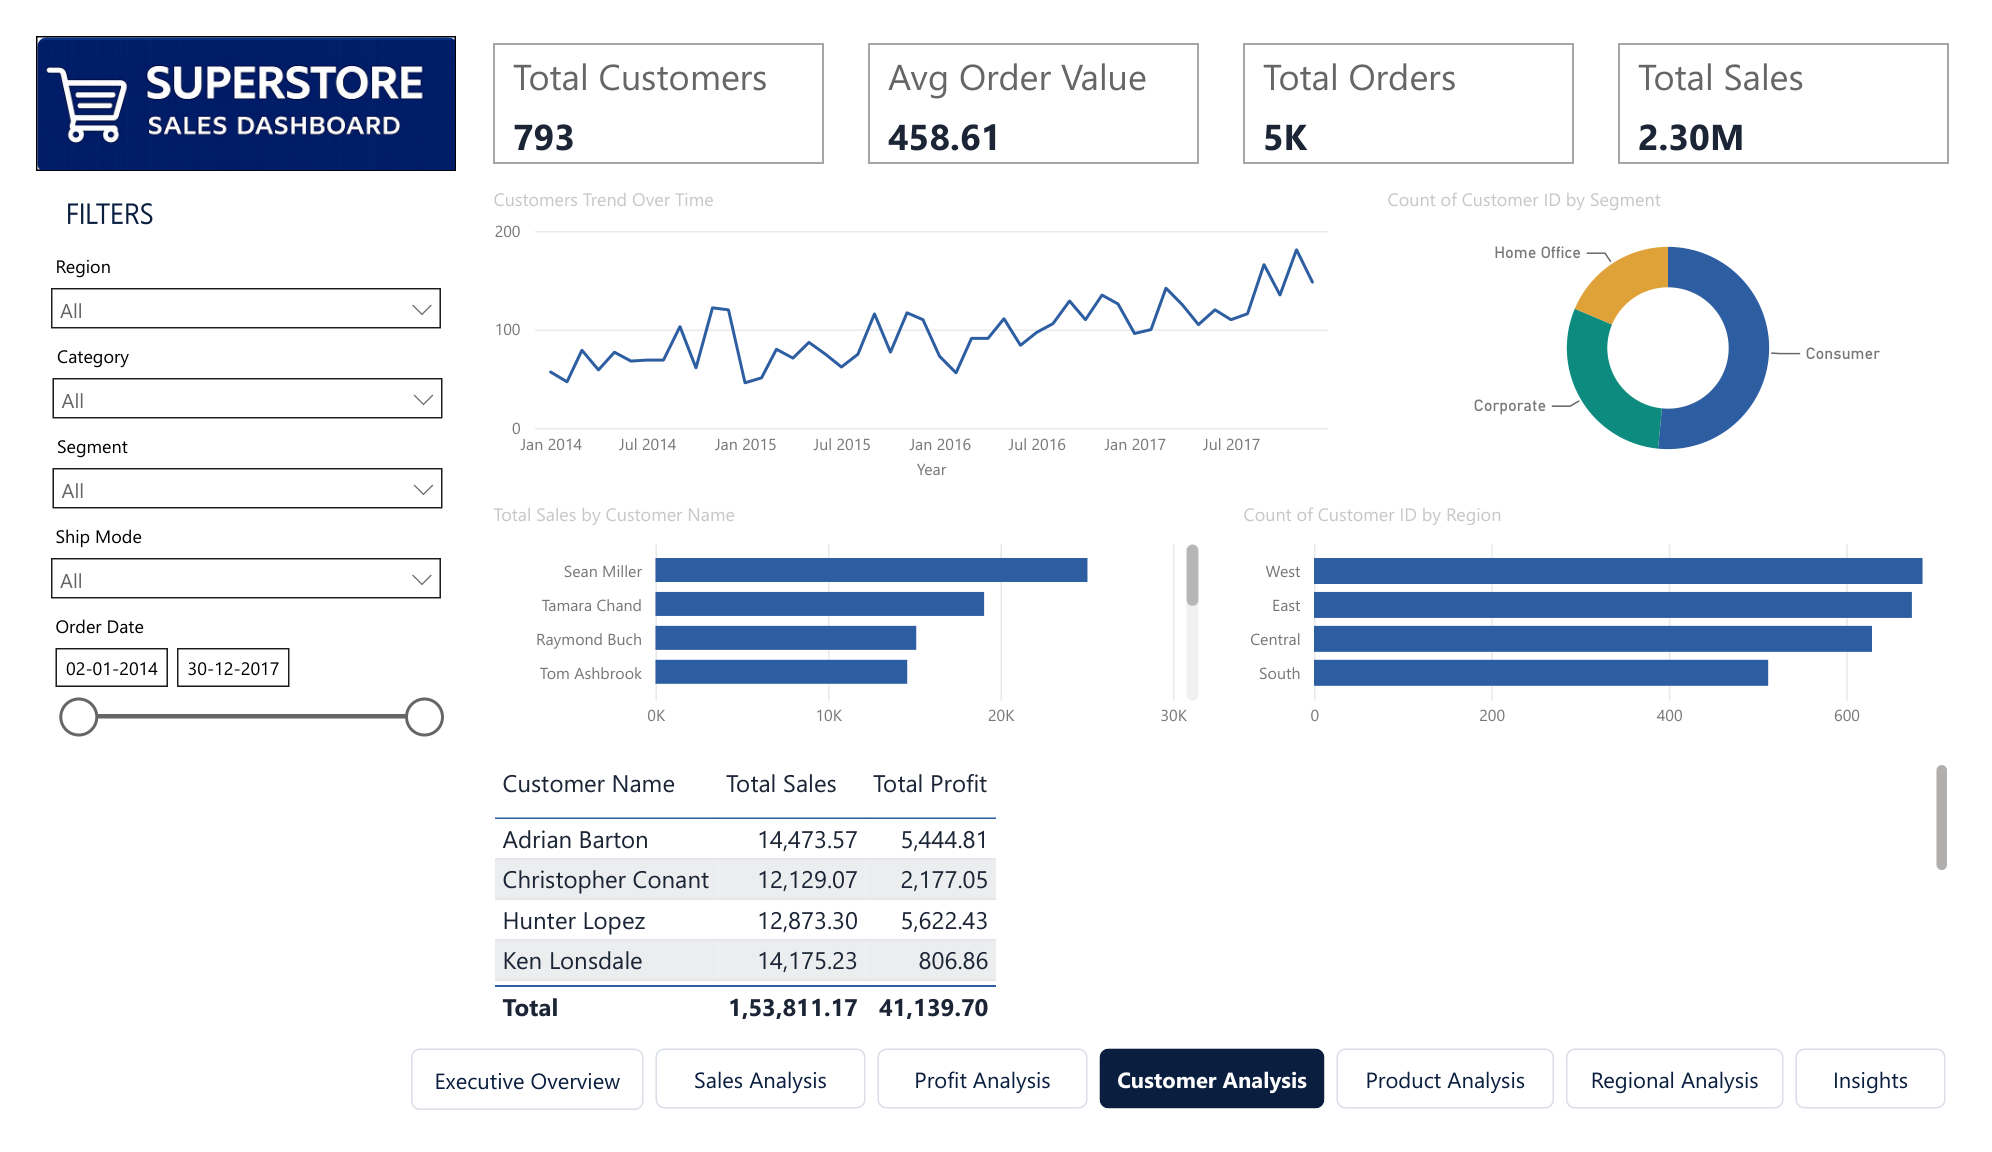

What the dashboard file says about the page in this screenshot:
{"tool":"powerbi","page":{"name":"Customer Analysis","canvas":[1280,720],"ordinal":3},"visuals":[{"type":"cardVisual","fields":{"Data":["Sample - Superstore 2.Total Sales"]},"box":[1050,0,230,90],"z":0},{"type":"cardVisual","fields":{"Data":["Sample - Superstore 2.Total Orders"]},"box":[800,0,230,90],"z":1000},{"type":"cardVisual","fields":{"Data":["Sample - Superstore 2.Total Customers"]},"box":[300,0,230,90],"z":2000},{"type":"cardVisual","fields":{"Data":["Sample - Superstore 2.Avg Order Value"]},"box":[550,0,230,90],"z":3000},{"type":"lineChart","title":"Customers Trend Over Time","fields":{"Category":["Date.Date.Variation.Date Hierarchy.Year","Date.Date.Variation.Date Hierarchy.Month"],"Y":["Count(Sample - Superstore 2.Customer ID)"]},"box":[300,100,576,200],"z":4000},{"type":"donutChart","fields":{"Category":["Sample - Superstore 2.Segment"],"Y":["Count(Sample - Superstore 2.Customer ID)"]},"box":[896,100,384,200],"z":5000},{"type":"clusteredBarChart","fields":{"Category":["Sample - Superstore 2.Customer Name"],"Y":["Sample - Superstore 2.Total Sales"]},"box":[300,310,480,160],"z":6000},{"type":"clusteredBarChart","fields":{"Category":["Sample - Superstore 2.Region"],"Y":["Count(Sample - Superstore 2.Customer ID)"]},"box":[800,310,480,160],"z":7000},{"type":"tableEx","fields":{"Values":["Sample - Superstore 2.Customer Name","Sample - Superstore 2.Total Sales","Sample - Superstore 2.Total Profit"]},"box":[300,480,980,185],"z":8000},{"type":"actionButton","title":"sdgtsdgte","box":[250,675,155,40.7],"z":9000},{"type":"actionButton","box":[413,675,140,40],"z":10000},{"type":"actionButton","box":[867,675,145,40],"z":11000},{"type":"actionButton","box":[709,675,150,40],"z":12000},{"type":"actionButton","box":[561,675,140,40],"z":13000},{"type":"actionButton","box":[1020,675,145,40],"z":14000},{"type":"actionButton","box":[1173,675,100,40],"z":15000},{"type":"slicer","fields":{"Values":["Sample - Superstore 2.Region"]},"box":[0,140,280,55],"z":16000},{"type":"slicer","fields":{"Values":["Sample - Superstore 2.Category"]},"box":[1.1,200,280,55],"z":17000},{"type":"slicer","fields":{"Values":["Sample - Superstore 2.Order Date"]},"box":[0,380,280.3,130],"z":18000},{"type":"slicer","fields":{"Values":["Sample - Superstore 2.Segment"]},"box":[1.1,260,280,55],"z":19000},{"type":"slicer","fields":{"Values":["Sample - Superstore 2.Ship Mode"]},"box":[0,320,280,54.6],"z":20000},{"type":"image","box":[0,0,280.3,89.6],"z":21000},{"type":"textbox","box":[15,100,200,35],"z":22000}]}

Visuals, with their boxes in screenshot pixels (x1, y1, x2, y2), scaled from the page's 1280x720 canvas onto the 1992x1152 screenshot:
cardVisual - Sample - Superstore 2.Total Sales: [x1=1634, y1=0, x2=1991, y2=144]
cardVisual - Sample - Superstore 2.Total Orders: [x1=1245, y1=0, x2=1603, y2=144]
cardVisual - Sample - Superstore 2.Total Customers: [x1=467, y1=0, x2=825, y2=144]
cardVisual - Sample - Superstore 2.Avg Order Value: [x1=856, y1=0, x2=1214, y2=144]
"Customers Trend Over Time" lineChart: [x1=467, y1=160, x2=1363, y2=480]
donutChart - Sample - Superstore 2.Segment x Count(Sample - Superstore 2.Customer ID): [x1=1394, y1=160, x2=1991, y2=480]
clusteredBarChart - Sample - Superstore 2.Customer Name x Sample - Superstore 2.Total Sales: [x1=467, y1=496, x2=1214, y2=752]
clusteredBarChart - Sample - Superstore 2.Region x Count(Sample - Superstore 2.Customer ID): [x1=1245, y1=496, x2=1991, y2=752]
tableEx - Sample - Superstore 2.Customer Name x Sample - Superstore 2.Total Sales: [x1=467, y1=768, x2=1991, y2=1064]
"sdgtsdgte" actionButton: [x1=389, y1=1080, x2=630, y2=1145]
actionButton: [x1=643, y1=1080, x2=861, y2=1144]
actionButton: [x1=1349, y1=1080, x2=1575, y2=1144]
actionButton: [x1=1103, y1=1080, x2=1337, y2=1144]
actionButton: [x1=873, y1=1080, x2=1091, y2=1144]
actionButton: [x1=1587, y1=1080, x2=1813, y2=1144]
actionButton: [x1=1825, y1=1080, x2=1981, y2=1144]
slicer - Sample - Superstore 2.Region: [x1=0, y1=224, x2=436, y2=312]
slicer - Sample - Superstore 2.Category: [x1=2, y1=320, x2=437, y2=408]
slicer - Sample - Superstore 2.Order Date: [x1=0, y1=608, x2=436, y2=816]
slicer - Sample - Superstore 2.Segment: [x1=2, y1=416, x2=437, y2=504]
slicer - Sample - Superstore 2.Ship Mode: [x1=0, y1=512, x2=436, y2=599]
image: [x1=0, y1=0, x2=436, y2=143]
textbox: [x1=23, y1=160, x2=335, y2=216]
